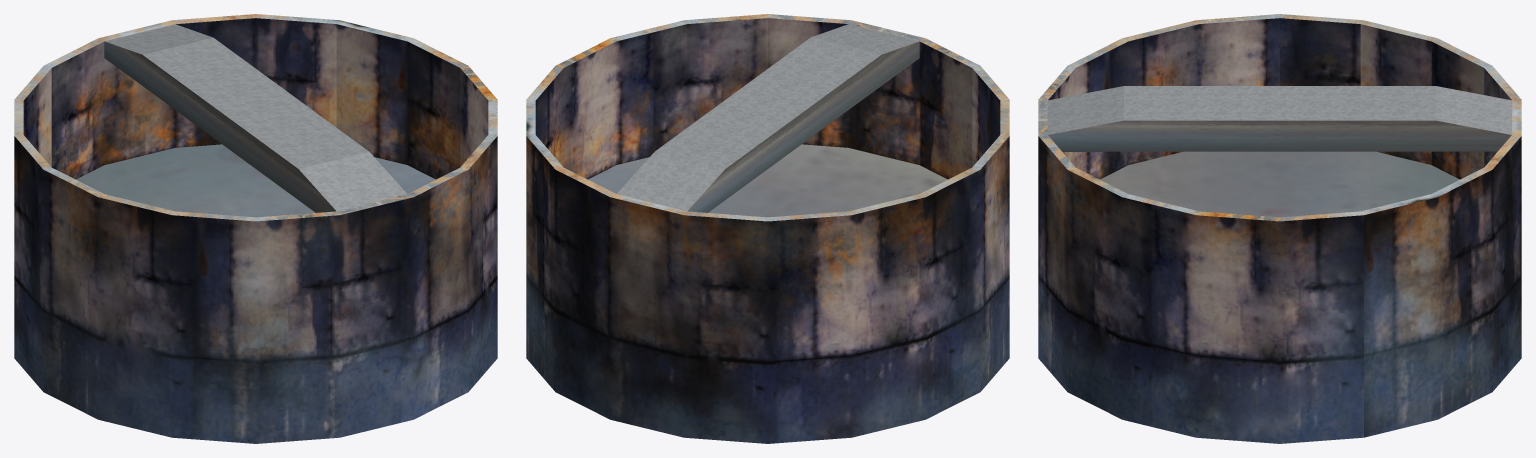
File: Vat.FBX
The picture shows the model from 3 angles, left to right: view 1: azimuth 30°, elevation 25°; view 2: azimuth 150°, elevation 25°; view 3: azimuth 270°, elevation 25°; orthographic projection.
Parts seen in each view (by area): view 1: Cylinder001; view 2: Cylinder001; view 3: Cylinder001.
Part boxes in pixels (box(x1,y1,x2,y2)): Cylinder001: box(14, 14, 497, 443); Cylinder001: box(526, 14, 1009, 443); Cylinder001: box(1038, 14, 1521, 443).
Size of the model in its own units: 4 by 2.13 by 3.94.
Materials: 1 (1 with a texture image).
